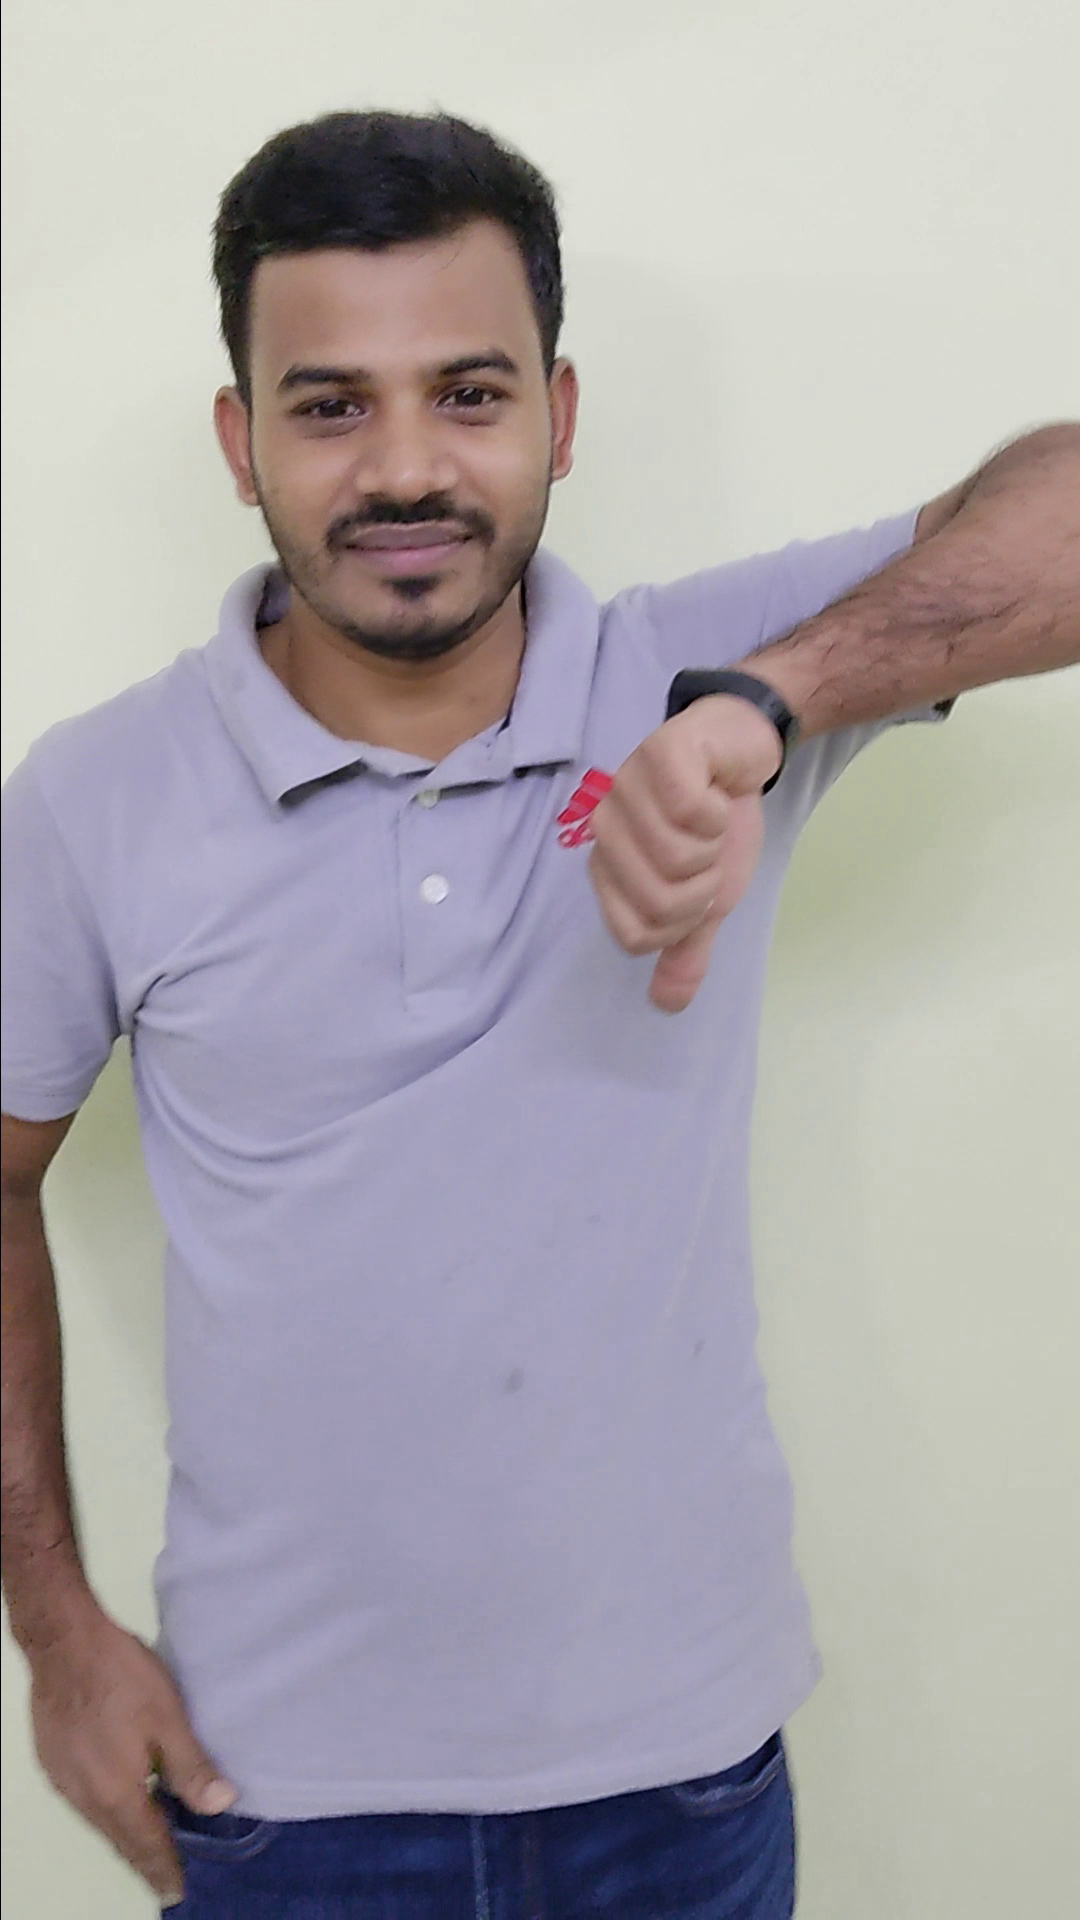Dislike: (563, 655, 791, 1030)
None: (13, 1605, 241, 1913)
